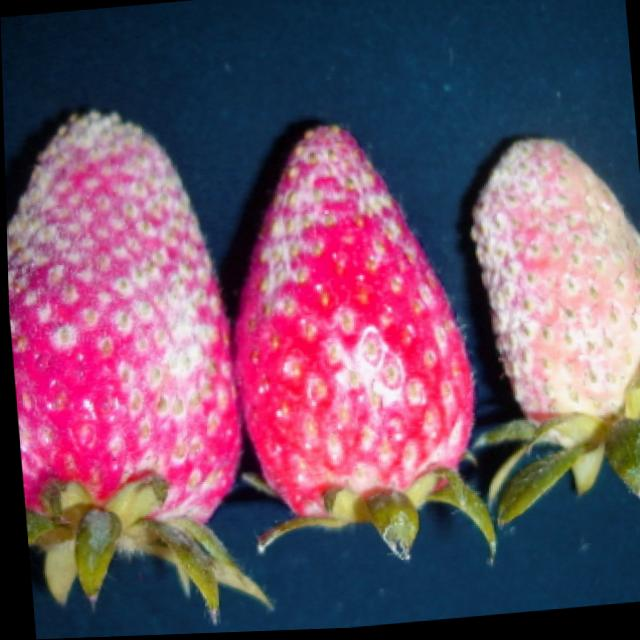Powdery Mildew Fruit: (5, 110, 242, 545), (224, 126, 473, 526), (469, 140, 640, 456)
